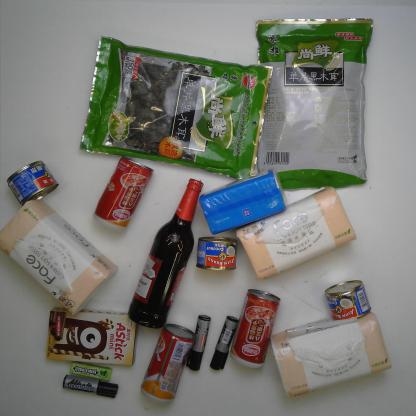Alcohol: (126, 175, 208, 330)
Canned Food: (90, 152, 156, 236), (138, 320, 198, 405), (228, 286, 282, 371), (5, 158, 62, 208), (321, 278, 372, 324), (194, 235, 238, 273)
Dessert: (45, 306, 139, 367)
Dried Food: (79, 32, 275, 184), (254, 17, 374, 191)
Gum: (68, 359, 114, 384)
Stationery: (209, 314, 239, 373), (61, 373, 121, 400), (185, 313, 211, 374)
Tissue: (0, 195, 120, 318), (234, 183, 360, 282), (267, 309, 394, 400), (197, 166, 290, 236)
